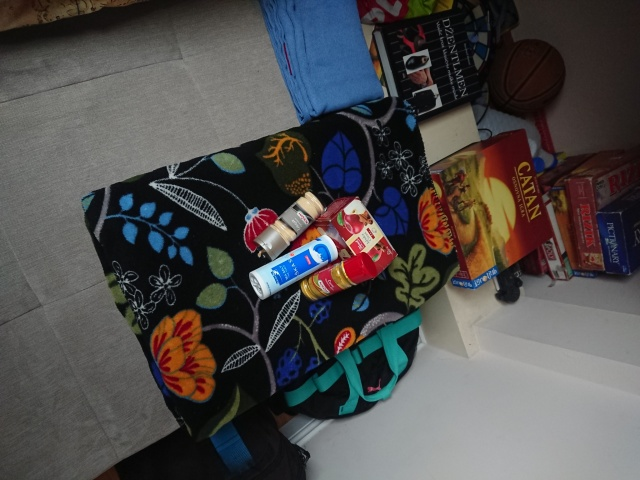Franck Apple Cinnamon Tea 60g: (312, 194, 400, 283)
Kotanyi Curry Spices Mix 70g: (298, 250, 379, 304)
Kotanyi Garlic Granules 70g: (251, 188, 328, 263)
Solana Pag Fine Sea Salt 250g: (247, 232, 340, 301)
